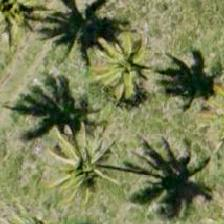Kelapa_Sawit: (26, 106, 116, 196), (90, 18, 180, 108)
